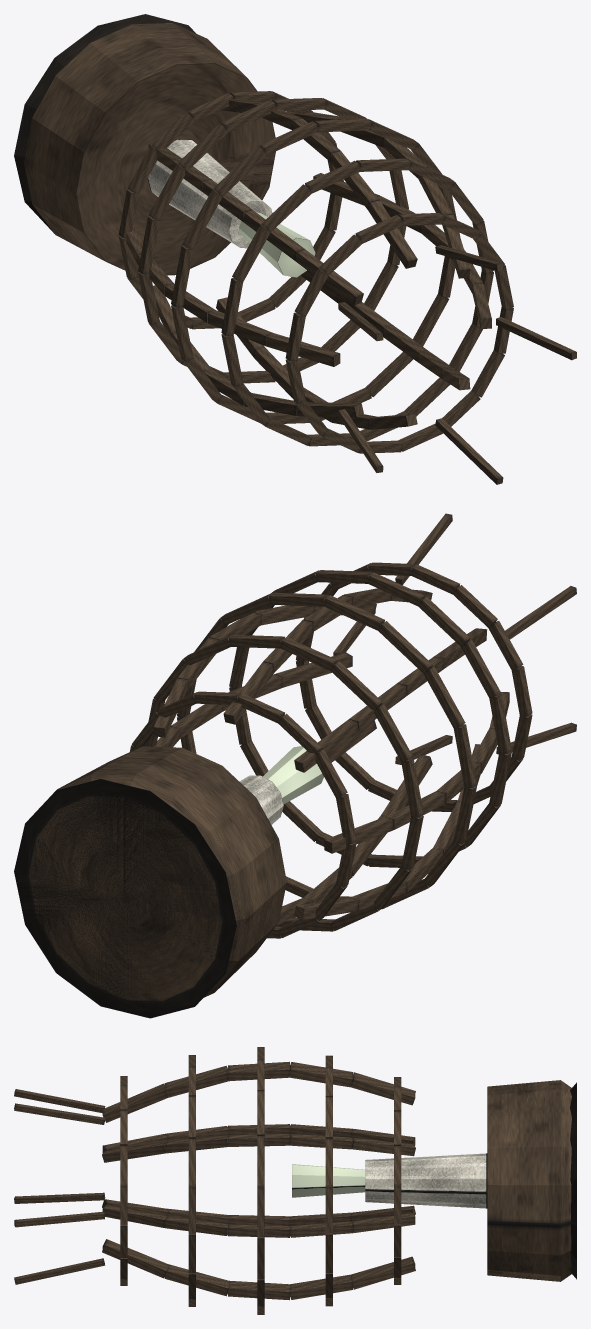
File: boneglass_root_cage_planter.obj
The picture shows the model from 3 angles, top to bottom: view 1: azimuth 30°, elevation 25°; view 2: azimuth 150°, elevation 25°; view 3: azimuth 270°, elevation 25°; orthographic projection. The views are drawn at different scales.
Parts seen in each view (by area): view 1: boneglass_root_cage_planter; view 2: boneglass_root_cage_planter; view 3: boneglass_root_cage_planter.
Part boxes in pixels (x1,y1,x2,y2): boneglass_root_cage_planter: (14,14,576,484); boneglass_root_cage_planter: (14,513,576,1018); boneglass_root_cage_planter: (14,1047,576,1314).
Bounding box in the file's own units: 1.64 × 1.64 × 3.46.
4 materials, 4 textured.
